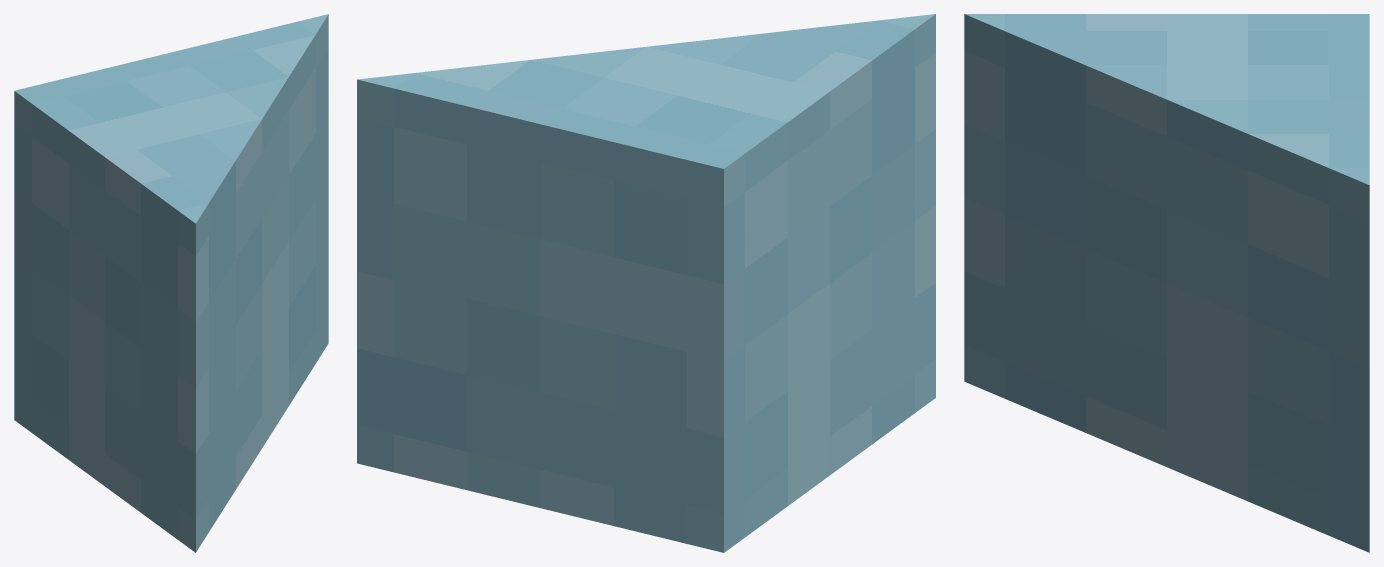
Rendered from Ice_VerticalSlope.glb.
3 renders of one model, left to right at view 1: azimuth 30°, elevation 25°; view 2: azimuth 150°, elevation 25°; view 3: azimuth 270°, elevation 25°, orthographic. The views are drawn at different scales.
Parts seen in each view (by area): view 1: Ice_VerticalSlope_body; view 2: Ice_VerticalSlope_body; view 3: Ice_VerticalSlope_body.
Part boxes in pixels (box(x1,y1,x2,y2)): Ice_VerticalSlope_body: box(14, 14, 328, 552); Ice_VerticalSlope_body: box(357, 14, 935, 552); Ice_VerticalSlope_body: box(964, 14, 1369, 552).
Size of the model in its own units: 1 by 1 by 1.
Materials: 1 (1 with a texture image).
